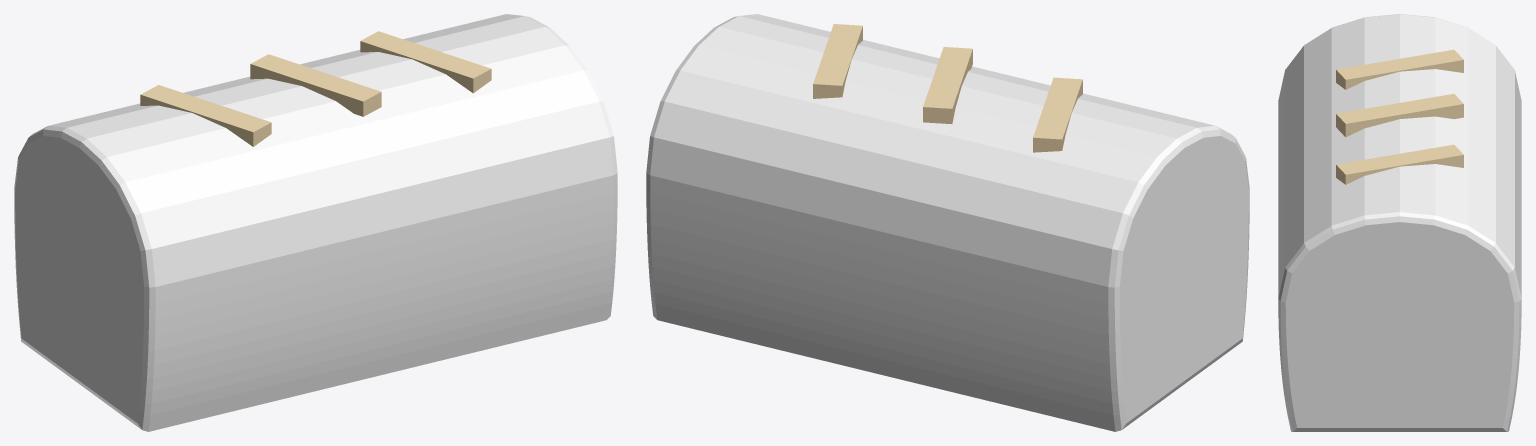
Rendered from bread-loaf.glb.
3 views of the same model, side by side, from view 1: azimuth 30°, elevation 25°; view 2: azimuth 150°, elevation 25°; view 3: azimuth 270°, elevation 25° (orthographic). The views are drawn at different scales.
Visible parts, largest first — view 1: Clear_Bread_Bag, Crust_Score_02, Crust_Score_03, Crust_Score_01; view 2: Clear_Bread_Bag, Crust_Score_02, Crust_Score_01, Crust_Score_03; view 3: Clear_Bread_Bag, Crust_Score_02, Crust_Score_01, Crust_Score_03.
Boxes of the visible parts, x1,y1,x2,y2 form: Clear_Bread_Bag: (14, 14, 617, 431); Crust_Score_02: (250, 54, 381, 116); Crust_Score_03: (360, 31, 491, 93); Crust_Score_01: (140, 85, 271, 146); Clear_Bread_Bag: (646, 14, 1249, 431); Crust_Score_02: (923, 47, 972, 123); Crust_Score_01: (1033, 77, 1082, 152); Crust_Score_03: (813, 24, 862, 98); Clear_Bread_Bag: (1278, 14, 1521, 431); Crust_Score_02: (1336, 94, 1463, 137); Crust_Score_01: (1336, 49, 1463, 89); Crust_Score_03: (1336, 144, 1463, 184).
Size of the model in its own units: 0.258 by 0.132 by 0.13.
